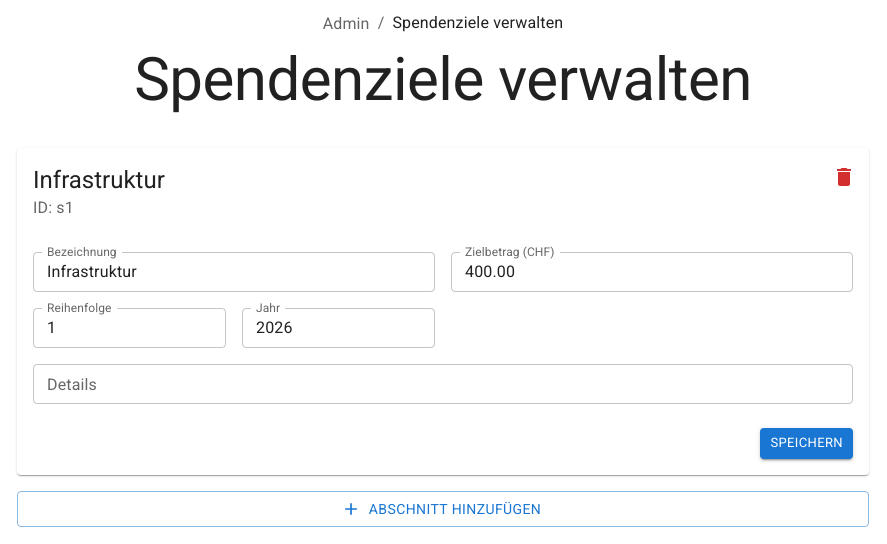
Test case: DonationGoalsPage — Numerische Felder › kappt einen negativ eingegebenen Zielbetrag auf 0
Replace the text in the number field labelled "Zielbetrag (CHF)" with "-50". click: (652, 272)
box: [451, 252, 853, 292]
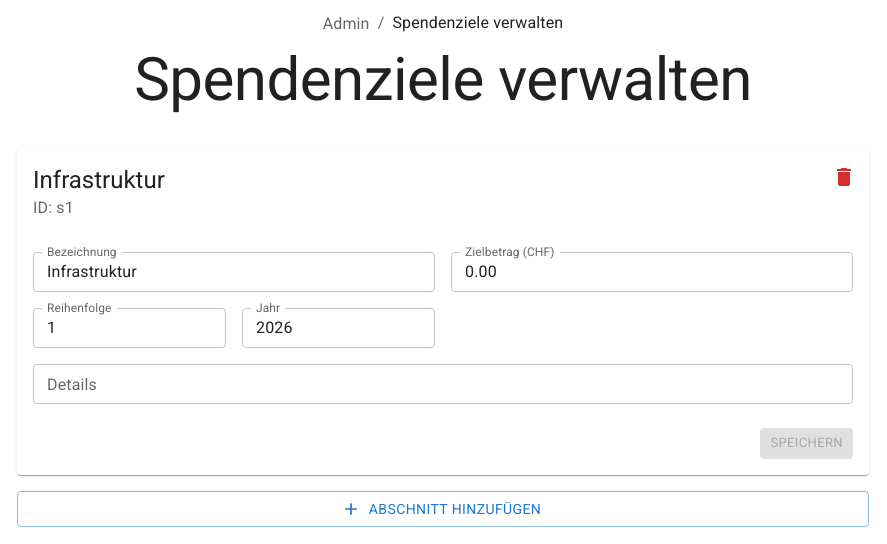
expect the number field labelled "Zielbetrag (CHF)" holds "0.00": met, box [451, 252, 853, 292]
